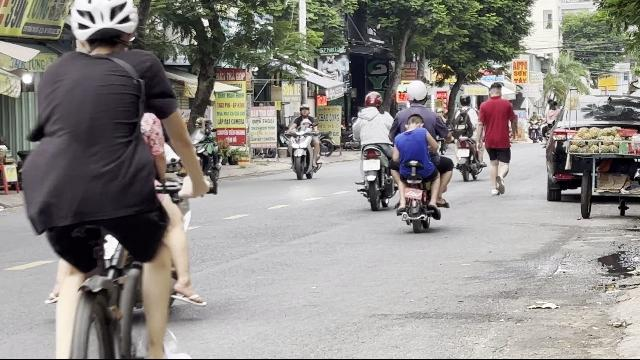helmet: (406, 80, 428, 104), (363, 91, 382, 109)
licenseplate: (362, 160, 380, 170)
motorcyclist: (390, 80, 454, 232), (351, 89, 397, 209)
nohelmet: (404, 112, 424, 134)
